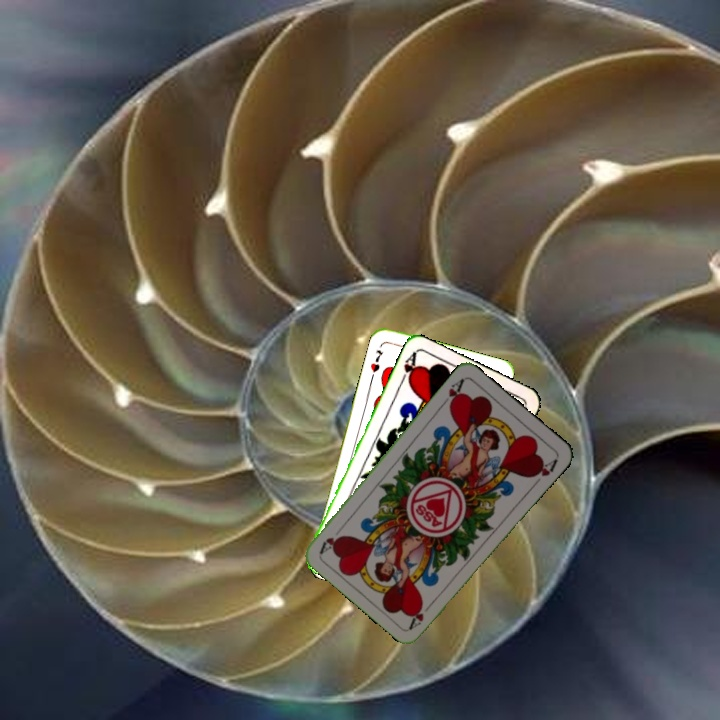H7: (366, 345, 386, 375)
HA: (405, 597, 437, 631), (437, 375, 467, 410), (396, 348, 420, 387)
